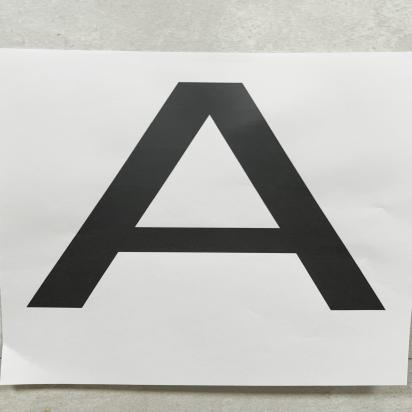seat: (0, 56, 412, 324)
